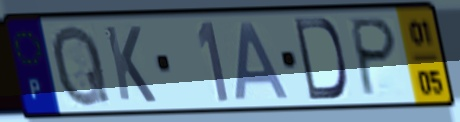1: (195, 19, 231, 106)
A: (232, 19, 293, 103)
D: (291, 17, 349, 103)
K: (101, 23, 159, 106)
P: (349, 15, 401, 100)
Q: (49, 21, 113, 110)
